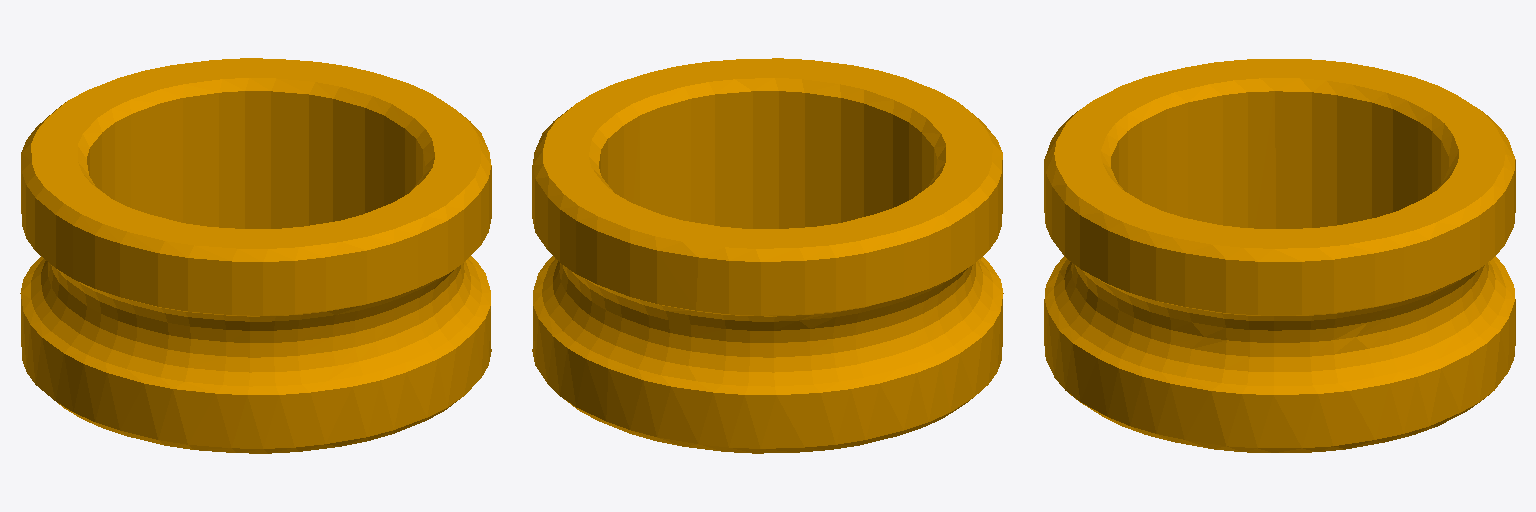
The robot description file, URDF, robot "00186_plug":
<?xml version="1.0"?>
<robot name="00186_plug">
	<link name="00186_plug">
		<visual>
			<geometry>
				<mesh filename="../mesh/00186/asset_plug.obj"/>
			</geometry>
		</visual>
		<collision>
			<geometry>
				<mesh filename="../mesh/00186/asset_plug.obj"/>
			</geometry>
			<sdf resolution="256"/>
		</collision>
	</link>
</robot>

--- What the picture shows (computed from the rendered views, not written in the file) ---
The picture shows the robot from 3 angles, left to right: view 1: azimuth 30°, elevation 25°; view 2: azimuth 150°, elevation 25°; view 3: azimuth 270°, elevation 25°; orthographic projection.
Model 00186_plug with 1 links and 0 joints (none), rooted at 00186_plug, posed all joints at 0.
Visible links, largest first — view 1: 00186_plug; view 2: 00186_plug; view 3: 00186_plug.
Boxes of the visible links, box(x1,y1,x2,y2) form: 00186_plug: box(20, 58, 491, 453); 00186_plug: box(532, 58, 1003, 453); 00186_plug: box(1044, 59, 1515, 452).
Size in the robot's own frame: 0.0275 by 0.0276 by 0.0132 metres.
Meshes: 1 distinct files referenced, 1 mesh visuals loaded (1 OBJ).
